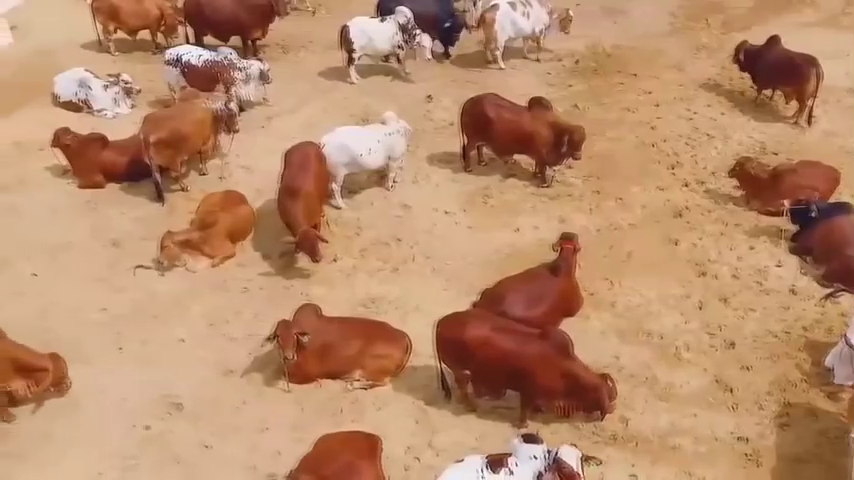bo: (428, 305, 626, 428), (456, 76, 592, 184), (262, 294, 409, 389), (474, 230, 610, 328), (719, 25, 835, 137), (136, 74, 246, 191), (423, 419, 607, 480), (319, 99, 415, 214), (157, 184, 262, 280), (713, 137, 849, 211), (272, 133, 344, 271), (266, 414, 402, 480), (328, 5, 439, 85), (156, 34, 270, 110), (775, 185, 854, 289), (474, 2, 583, 70), (181, 1, 295, 58), (371, 3, 474, 59), (83, 1, 184, 55)
www: (2, 325, 78, 444), (37, 111, 146, 192), (45, 61, 139, 118)
